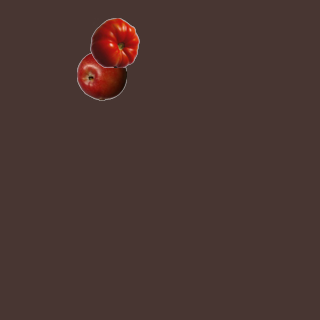Apple Braeburn: (76, 50, 126, 100)
Tomato 3: (89, 17, 139, 67)
